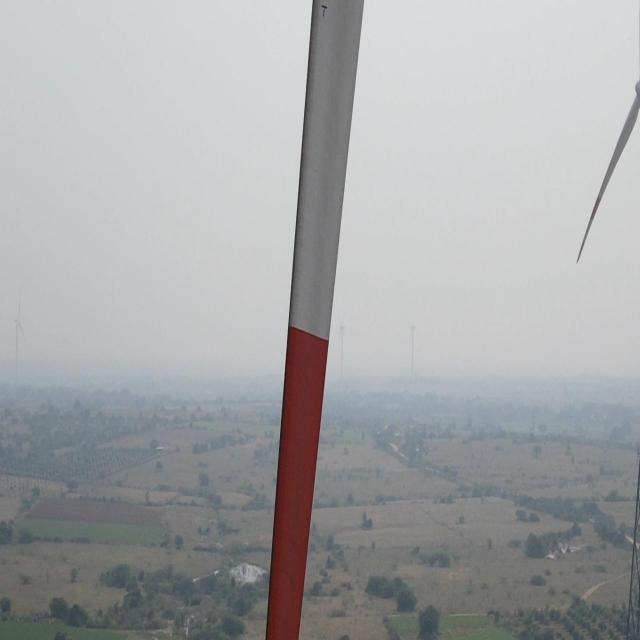Dirt: (269, 1, 354, 638)
